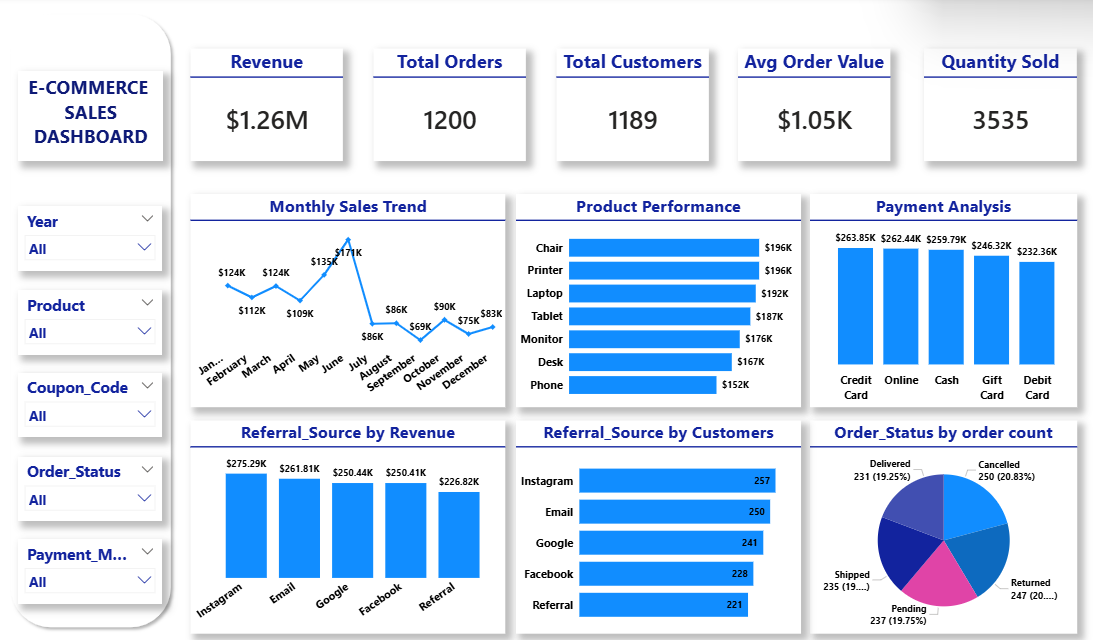

Layout of this report page (visuals, bound fields, positions):
{"tool":"powerbi","page":{"name":"Page 1","canvas":[1606,950],"ordinal":0},"visuals":[{"type":"card","title":"Revenue","fields":{"Values":["Sum(Cleaned data.Total_Price)"]},"box":[286.3,76.5,222,163.9],"z":0},{"type":"card","title":"Total Orders","fields":{"Values":["CountNonNull(Cleaned data.Order_ID)"]},"box":[553,76.5,222,163.9],"z":1000},{"type":"card","title":"Total Customers","fields":{"Values":["Count(Cleaned data.Customer_ID)"]},"box":[819.6,76.5,222,163.9],"z":2000},{"type":"card","title":"Avg Order Value","fields":{"Values":["Cleaned data.Average order value"]},"box":[1084.1,76.5,222,163.9],"z":3000},{"type":"card","title":"Quantity Sold","fields":{"Values":["Sum(Cleaned data.Quantity)"]},"box":[1355.1,76.5,222.9,163.9],"z":4000},{"type":"lineChart","title":"Monthly Sales Trend","fields":{"Y":["Sum(Cleaned data.Total_Price)"],"Category":["Cleaned data.Date.Variation.Date Hierarchy.Month"]},"box":[286.3,288.5,459,310.4],"z":5000},{"type":"columnChart","title":"Product Performance","fields":{"Category":["Cleaned data.Product"],"Y":["Sum(Cleaned data.Total_Price)"]},"box":[760.6,288.5,415.3,310.4],"z":6000},{"type":"barChart","title":"Payment Analysis","fields":{"Category":["Cleaned data.Payment_Method"],"Y":["Sum(Cleaned data.Total_Price)"]},"box":[1189,288.5,389,310.4],"z":7000},{"type":"columnChart","title":"Referral_Source by Revenue","fields":{"Category":["Cleaned data.Referral_Source"],"Y":["Sum(Cleaned data.Total_Price)"]},"box":[286.3,618.5,459,310.4],"z":8000},{"type":"pieChart","title":"Order_Status by order count","fields":{"Category":["Cleaned data.Order_Status"],"Y":["CountNonNull(Cleaned data.Order_ID)"]},"box":[1189,618.5,389,310.4],"z":9000},{"type":"barChart","title":"Referral_Source by Customers","fields":{"Category":["Cleaned data.Referral_Source"],"Y":["Count(Cleaned data.Customer_ID)"]},"box":[760.6,618.5,415.3,310.4],"z":10000},{"type":"shape","box":[15.3,17.5,251.3,911.4],"z":11000},{"type":"textbox","box":[35,109.3,212,131.1],"z":12000},{"type":"slicer","fields":{"Values":["Cleaned data.Date.Variation.Date Hierarchy.Year"]},"box":[35,306,209.8,94],"z":13000},{"type":"slicer","fields":{"Values":["Cleaned data.Product"]},"box":[35,427.3,209.8,94],"z":14000},{"type":"slicer","fields":{"Values":["Cleaned data.Coupon_Code"]},"box":[35,548.6,209.8,94],"z":15000},{"type":"slicer","fields":{"Values":["Cleaned data.Order_Status"]},"box":[35,669.9,209.8,94],"z":16000},{"type":"slicer","fields":{"Values":["Cleaned data.Payment_Method"]},"box":[35,791.2,209.8,94],"z":17000}]}

Visuals, with their boxes in screenshot pixels (x1, y1, x2, y2), scaled from the page's 1606x950 canvas onto the 1093x640 screenshot:
"Revenue" card: (x1=195, y1=52, x2=346, y2=162)
"Total Orders" card: (x1=376, y1=52, x2=527, y2=162)
"Total Customers" card: (x1=558, y1=52, x2=709, y2=162)
"Avg Order Value" card: (x1=738, y1=52, x2=889, y2=162)
"Quantity Sold" card: (x1=922, y1=52, x2=1074, y2=162)
"Monthly Sales Trend" lineChart: (x1=195, y1=194, x2=507, y2=403)
"Product Performance" columnChart: (x1=518, y1=194, x2=800, y2=403)
"Payment Analysis" barChart: (x1=809, y1=194, x2=1074, y2=403)
"Referral_Source by Revenue" columnChart: (x1=195, y1=417, x2=507, y2=626)
"Order_Status by order count" pieChart: (x1=809, y1=417, x2=1074, y2=626)
"Referral_Source by Customers" barChart: (x1=518, y1=417, x2=800, y2=626)
shape: (x1=10, y1=12, x2=181, y2=626)
textbox: (x1=24, y1=74, x2=168, y2=162)
slicer - Cleaned data.Date.Variation.Date Hierarchy.Year: (x1=24, y1=206, x2=167, y2=269)
slicer - Cleaned data.Product: (x1=24, y1=288, x2=167, y2=351)
slicer - Cleaned data.Coupon_Code: (x1=24, y1=370, x2=167, y2=433)
slicer - Cleaned data.Order_Status: (x1=24, y1=451, x2=167, y2=515)
slicer - Cleaned data.Payment_Method: (x1=24, y1=533, x2=167, y2=596)
